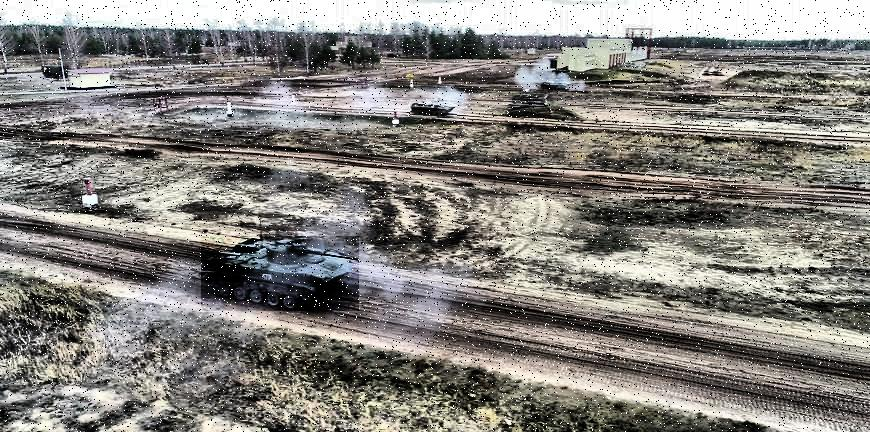military-vehicle: (201, 236, 359, 311), (411, 99, 458, 118)
